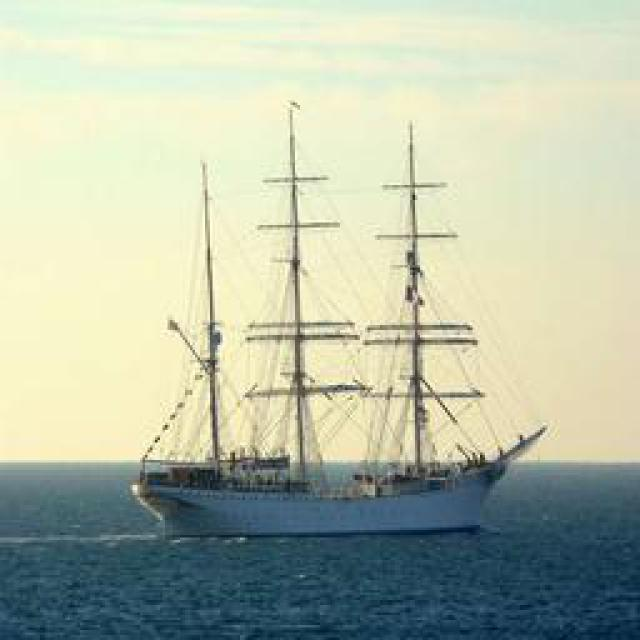Ship: (134, 113, 544, 518)
